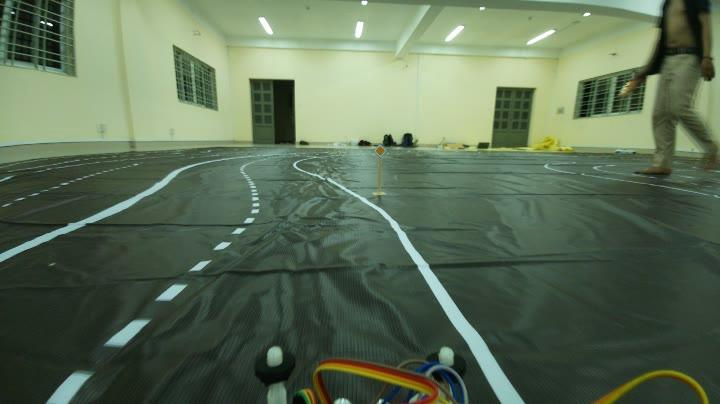priority: (372, 142, 390, 158)
